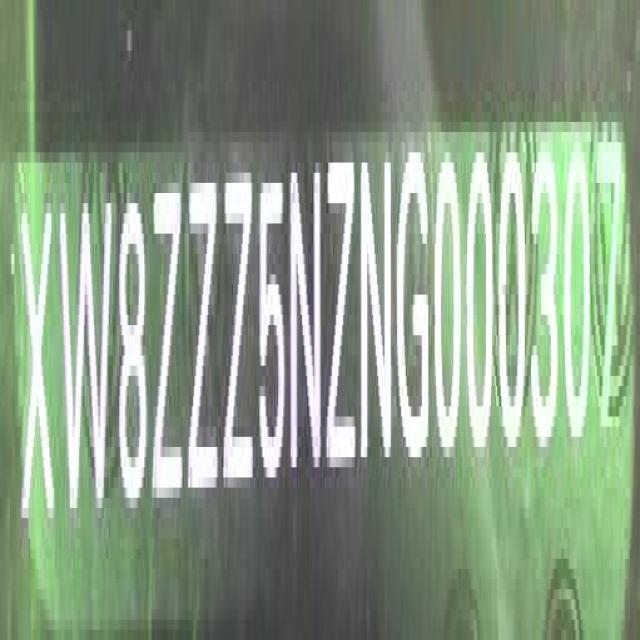0: (498, 128, 530, 452), (434, 130, 464, 463), (464, 119, 493, 459), (563, 113, 592, 451)
3: (530, 109, 557, 467)
5: (259, 155, 287, 488)
7: (591, 128, 624, 444)
8: (119, 188, 149, 520)
G: (398, 131, 432, 467)
N: (287, 132, 324, 478), (363, 135, 397, 475)
W: (59, 187, 112, 532)
X: (21, 196, 53, 540)
Z: (222, 159, 255, 505), (190, 159, 221, 511), (327, 145, 358, 484), (154, 180, 185, 516)
